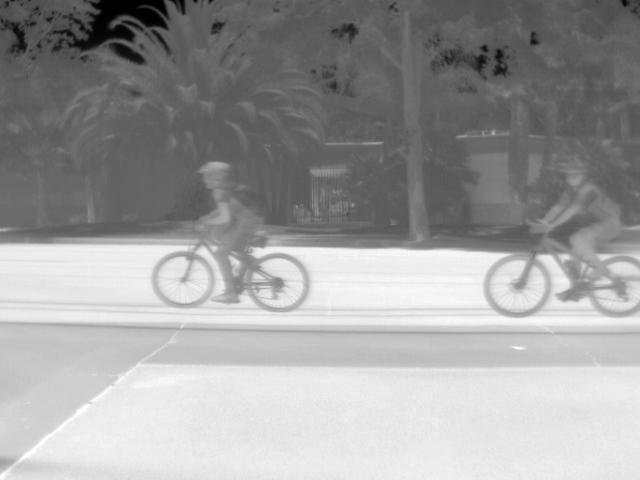person: (538, 159, 624, 303), (192, 158, 269, 304)
